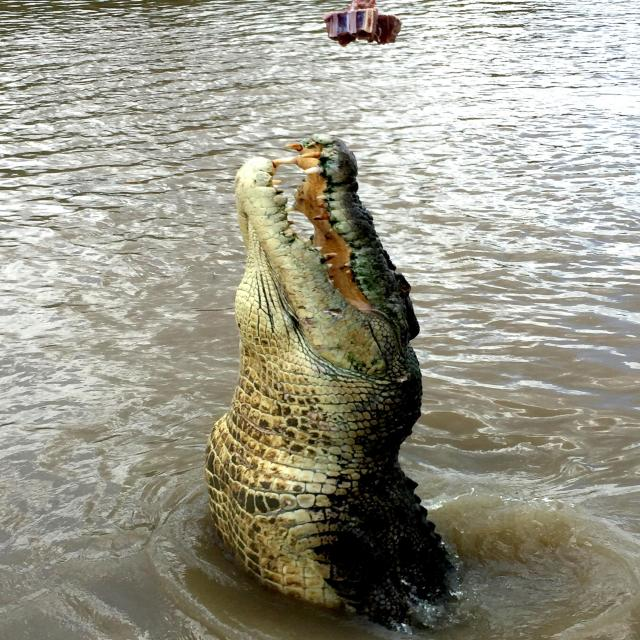crocodile: (196, 137, 473, 639)
